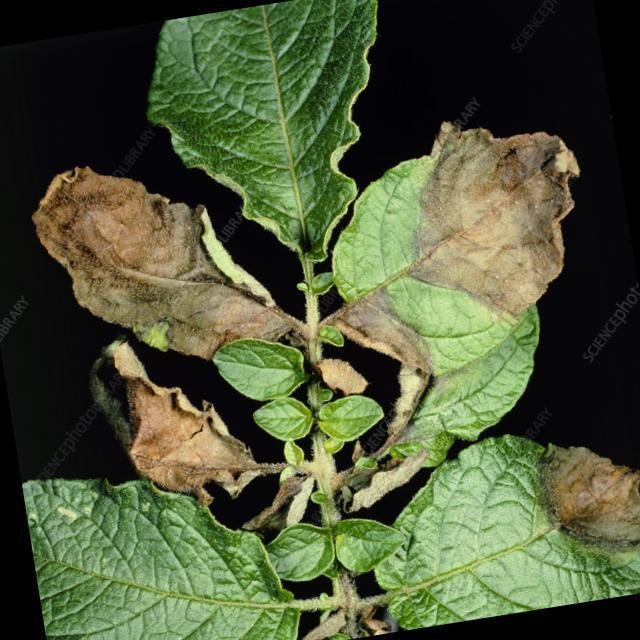Healthy Leaf: (329, 507, 409, 585), (247, 391, 318, 451), (312, 393, 395, 440)
